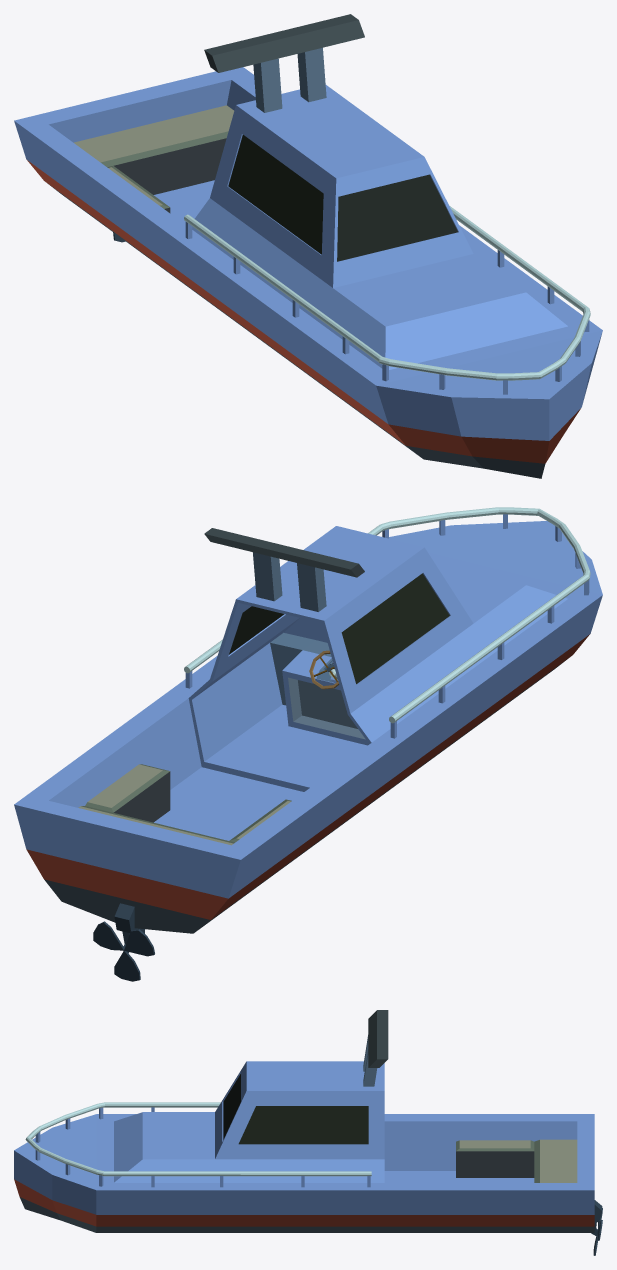
File: Scout_Boat.glb
3 renders of one model, top to bottom at view 1: azimuth 30°, elevation 25°; view 2: azimuth 150°, elevation 25°; view 3: azimuth 270°, elevation 25°, orthographic. The views are drawn at different scales.
Parts seen in each view (by area): view 1: Scout_Boat; view 2: Scout_Boat; view 3: Scout_Boat.
Boxes of the visible parts, bbox=[...] form: Scout_Boat: bbox=[14, 14, 602, 478]; Scout_Boat: bbox=[14, 507, 602, 981]; Scout_Boat: bbox=[14, 1010, 602, 1255].
Size of the model in its own units: 2.23 by 2.99 by 7.28.
1 material, 1 textured.
